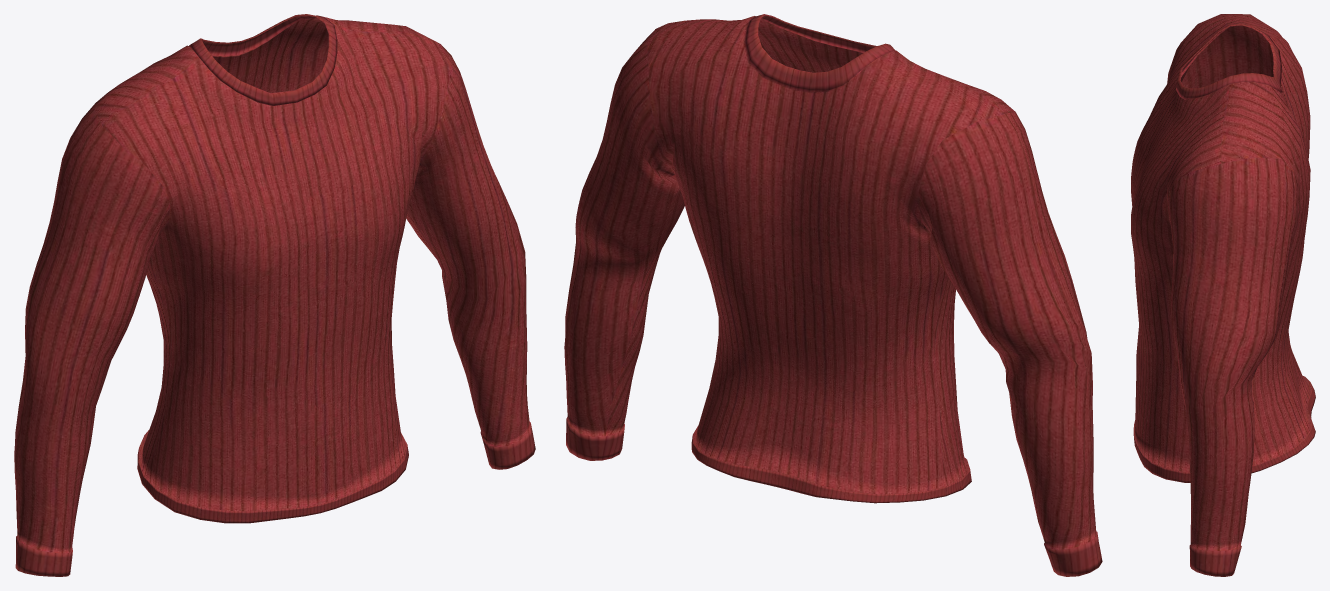
The model's file is toigo-fisherman-sweater.glb.
The picture shows the model from 3 angles, left to right: view 1: azimuth 30°, elevation 25°; view 2: azimuth 150°, elevation 25°; view 3: azimuth 270°, elevation 25°; orthographic projection. The views are drawn at different scales.
Parts seen in each view (by area): view 1: Human.toigo_fisherman_sweater; view 2: Human.toigo_fisherman_sweater; view 3: Human.toigo_fisherman_sweater.
Part boxes in pixels (<box>): Human.toigo_fisherman_sweater: <box>14,14,535,576</box>; Human.toigo_fisherman_sweater: <box>564,14,1102,576</box>; Human.toigo_fisherman_sweater: <box>1131,14,1315,576</box>.
Size of the model in its own units: 0.7344 by 0.6505 by 0.2569.
1 material, 1 textured.
